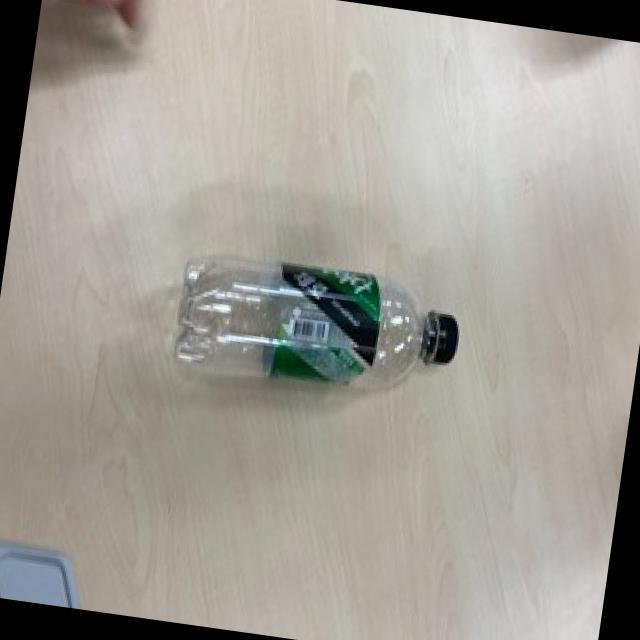good: (160, 240, 475, 410)
